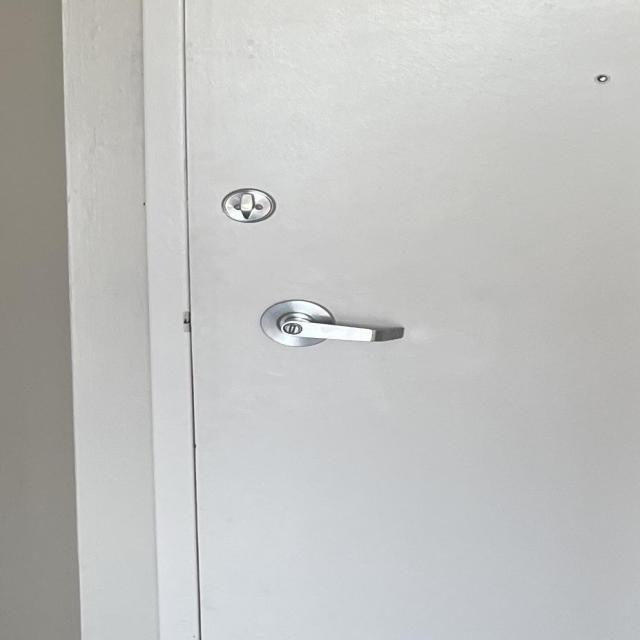door_handle: (254, 310, 429, 358)
